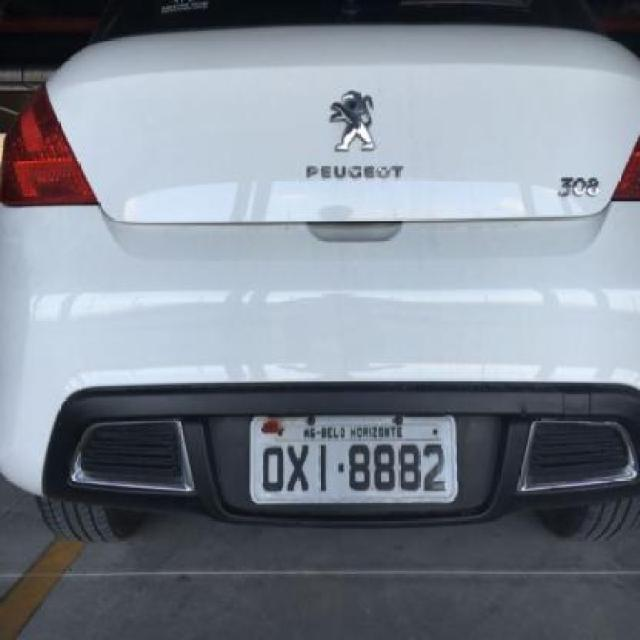old_plate: (245, 407, 462, 508)
